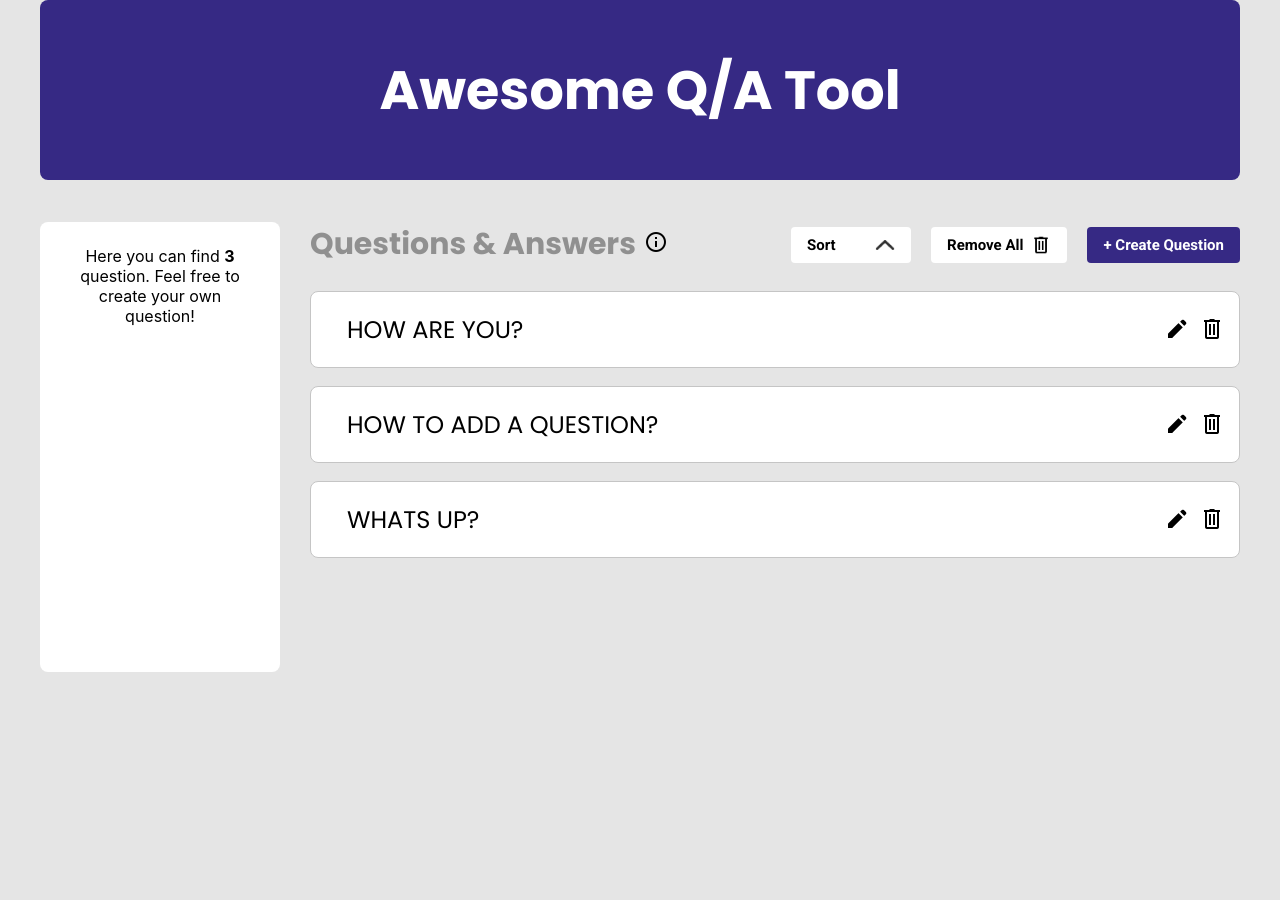
Question Answers › remove all button works as expected
This screenshot has width=1280, height=900.
Expected: the text "All Questions Removed!!!" is not shown
Click the button "Remove All".
click(999, 244)  # box [931, 226, 1067, 262]
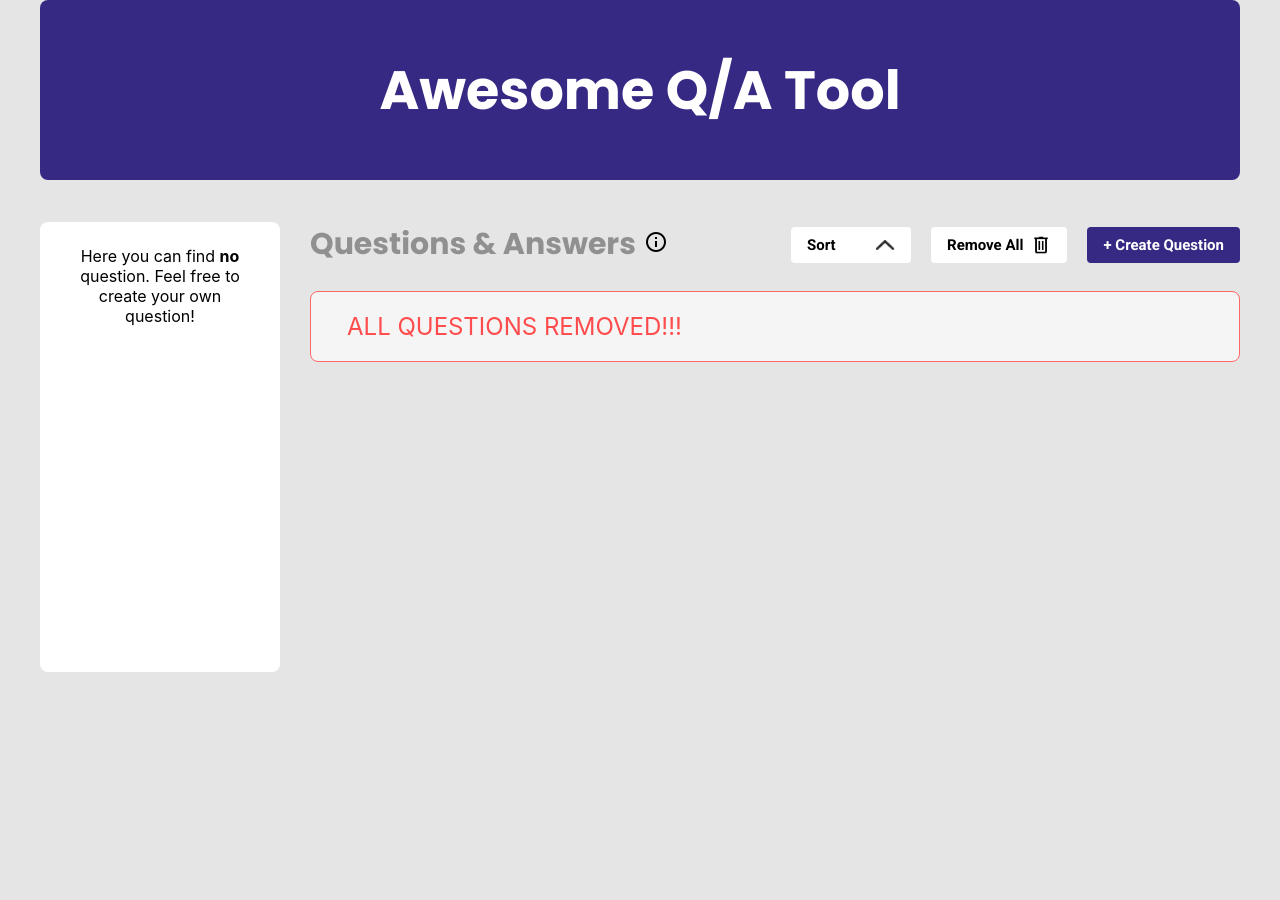
Expected: the text "All Questions Removed!!!" is shown, [310, 291, 1240, 362]
